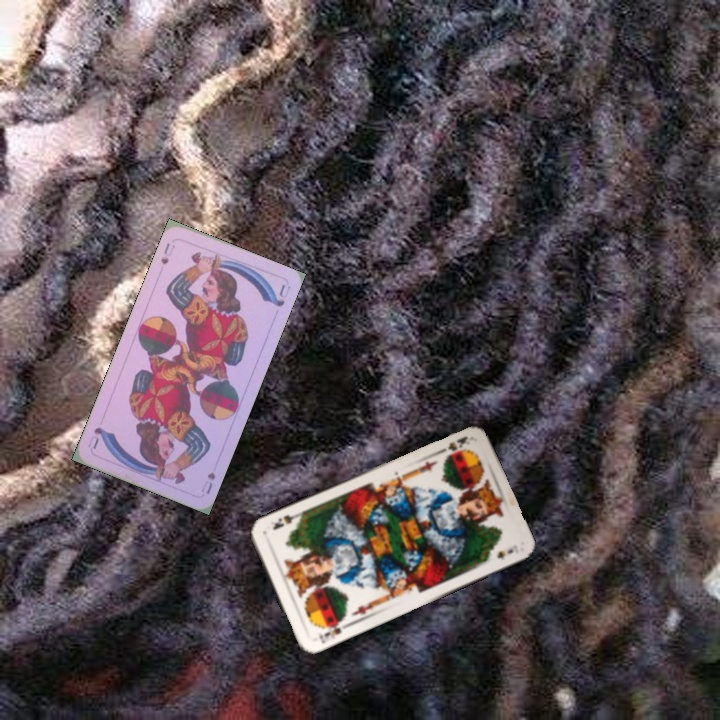SK: (315, 615, 346, 646), (433, 432, 470, 457)
SU: (156, 239, 178, 267), (197, 468, 218, 497)
